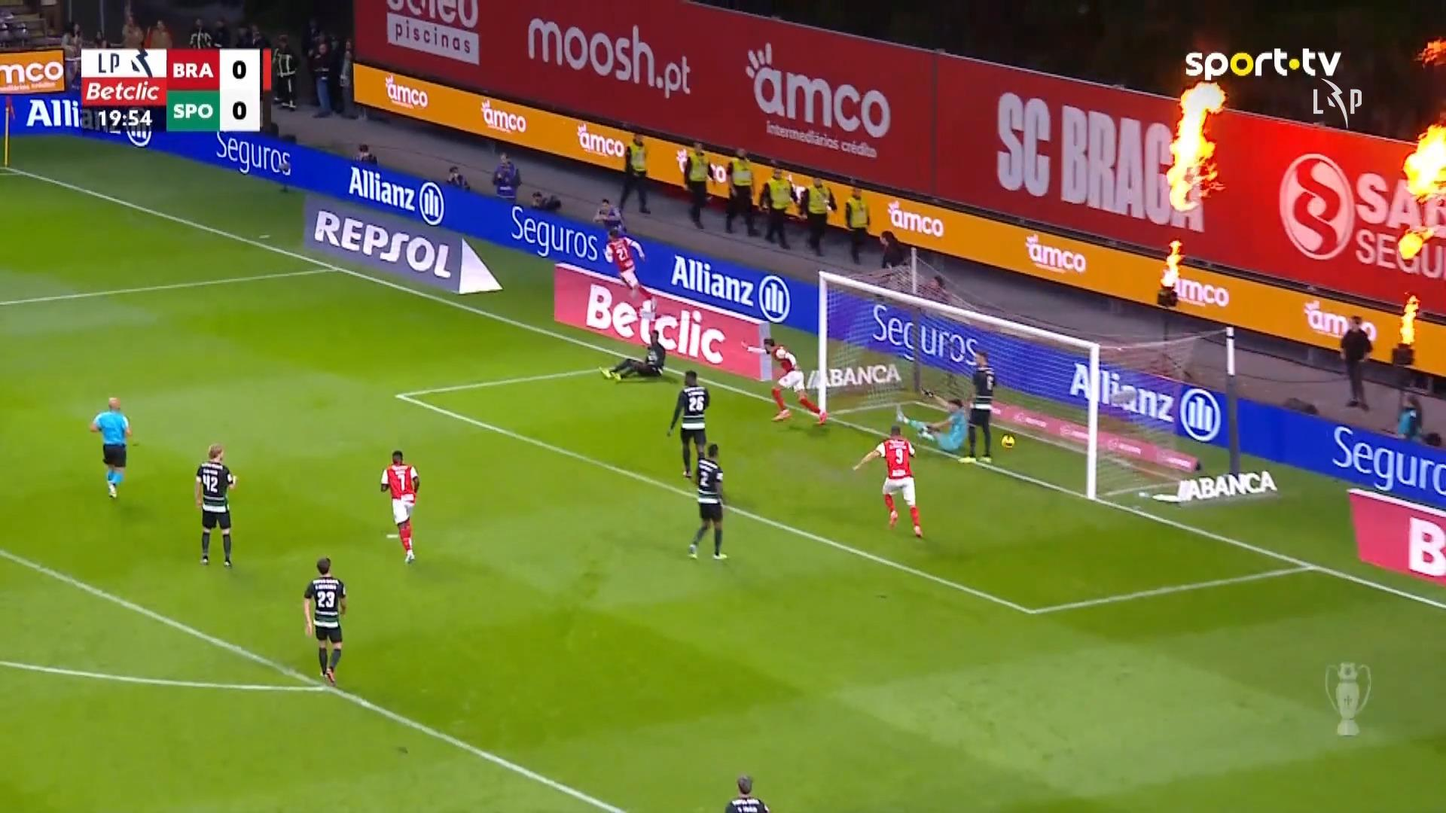ball: (1000, 434, 1014, 447)
goalkeeper: (895, 390, 969, 452)
player: (851, 425, 923, 538), (741, 335, 828, 425), (598, 297, 667, 382), (302, 556, 347, 686), (194, 443, 237, 567), (687, 442, 729, 560), (666, 369, 710, 479), (379, 449, 420, 564), (604, 224, 656, 312), (962, 349, 996, 463), (724, 774, 772, 813)
referee: (88, 396, 133, 498)
